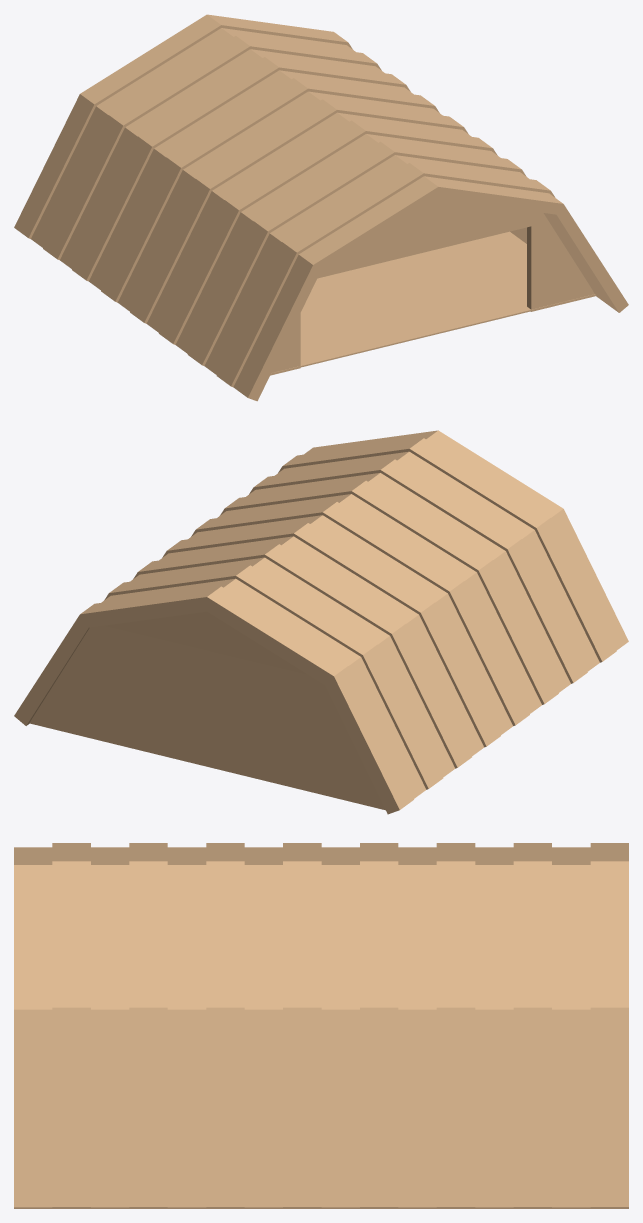
The model's file is angar beige.fbx.
The picture shows the model from 3 angles, top to bottom: view 1: azimuth 30°, elevation 25°; view 2: azimuth 150°, elevation 25°; view 3: azimuth 270°, elevation 25°; orthographic projection. The views are drawn at different scales.
Visible parts, largest first — view 1: Cylinder, Plane.004, Plane.001; view 2: Cylinder, Plane; view 3: Cylinder.
Boxes of the visible parts, left/top/right/bottom form: Cylinder: left=14, top=14, right=628, bottom=401; Plane.004: left=270, top=231, right=595, bottom=374; Plane.001: left=270, top=198, right=595, bottom=375; Cylinder: left=14, top=430, right=628, bottom=814; Plane: left=29, top=611, right=385, bottom=810; Cylinder: left=14, top=843, right=628, bottom=1208.
Bounding box in the file's own units: 385 × 165 × 400.
